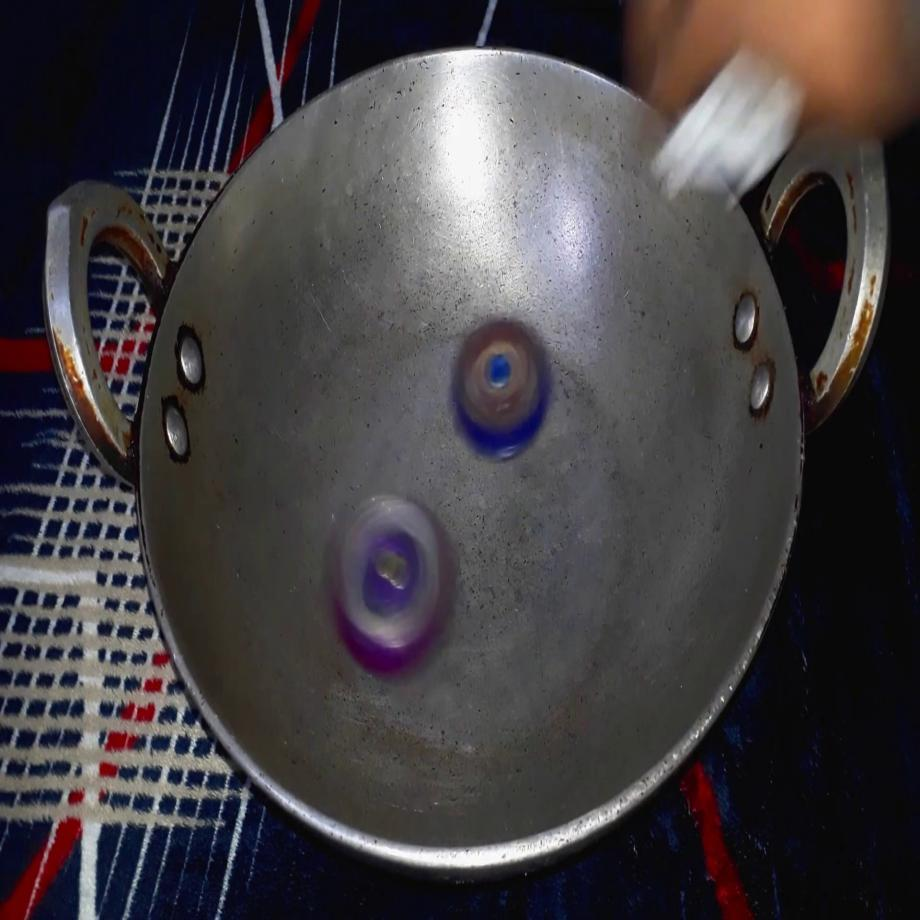beyblade: (318, 477, 471, 696), (442, 281, 560, 488)
